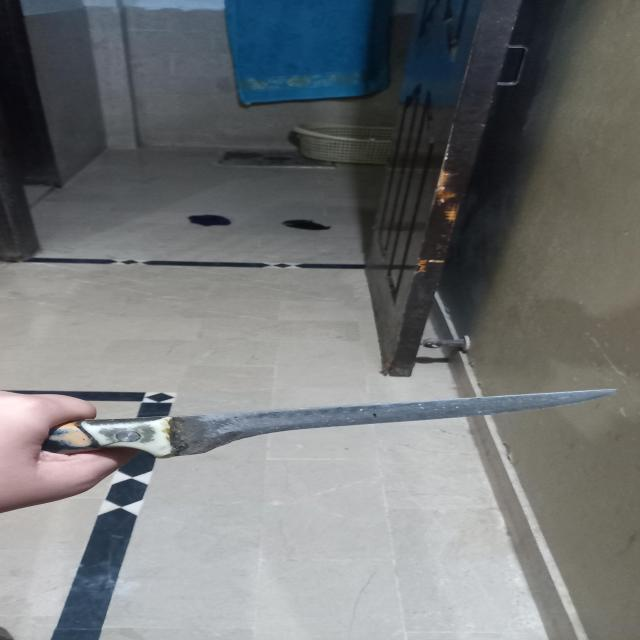Knife: (37, 386, 623, 460)
Person: (0, 386, 143, 514)
